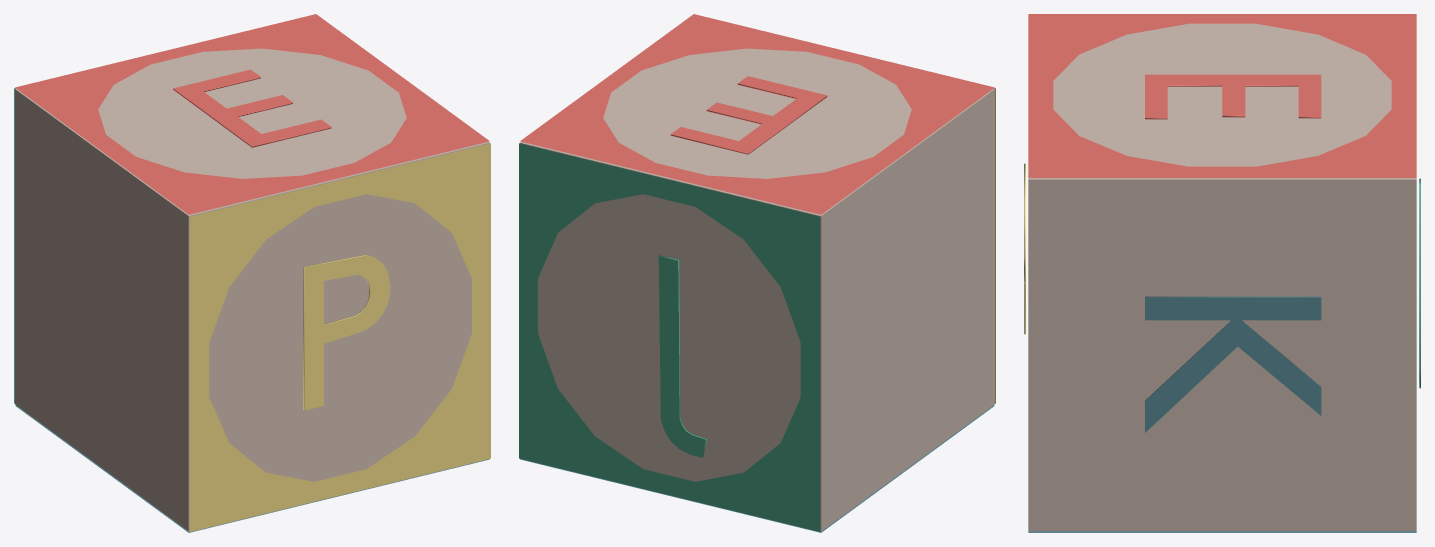
3 renders of one model, left to right at view 1: azimuth 30°, elevation 25°; view 2: azimuth 150°, elevation 25°; view 3: azimuth 270°, elevation 25°, orthographic. The views are drawn at different scales.
Visible parts, largest first — view 1: cube; view 2: cube; view 3: cube.
Part boxes in pixels (x1,y1,x2,y2): cube: (14,14,490,532); cube: (519,14,995,532); cube: (1024,14,1420,532).
Size of the model in its own units: 0.0453 by 0.046 by 0.046.
